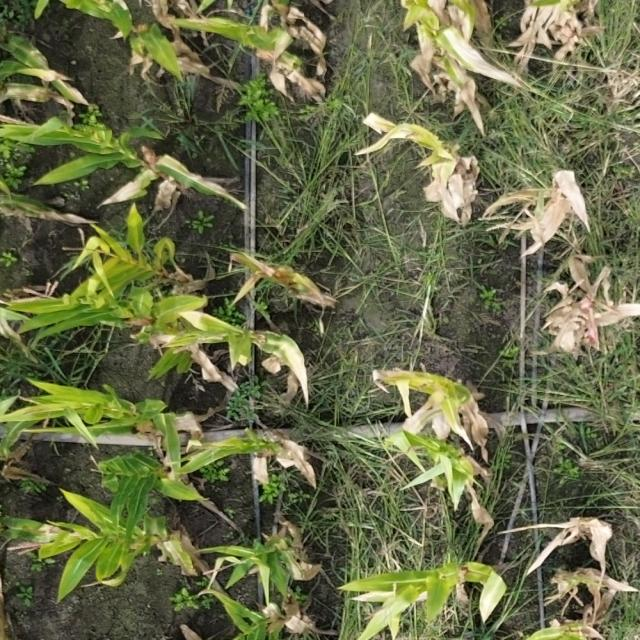northern-leaf-blight: (12, 41, 58, 75), (267, 337, 310, 367), (117, 172, 153, 200), (162, 539, 189, 571)
southern-leaf-blight: (130, 482, 150, 514)
